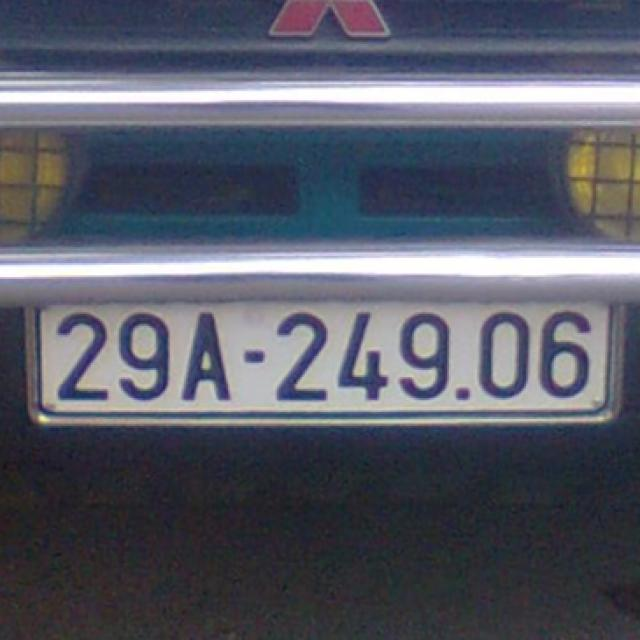0: (479, 311, 529, 398)
2: (54, 309, 110, 404), (274, 308, 330, 403)
4: (335, 308, 386, 401)
6: (541, 312, 589, 400)
9: (118, 310, 170, 402), (398, 313, 448, 401)
A: (178, 305, 232, 407)
